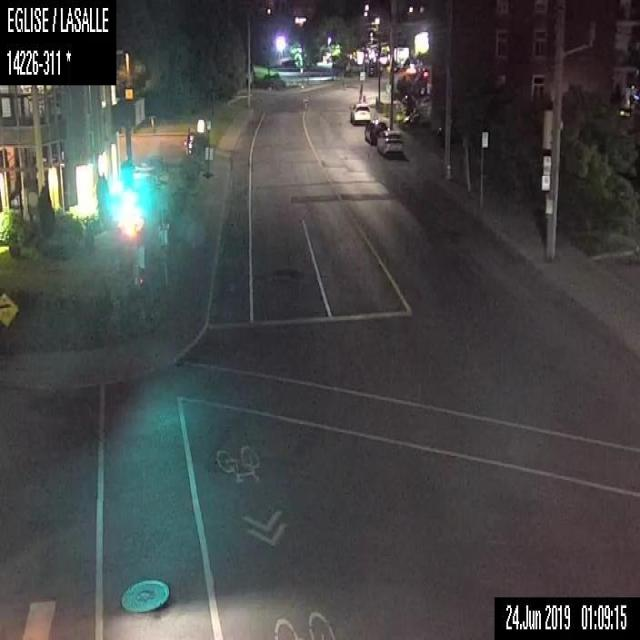vehicle: (376, 128, 404, 161), (363, 117, 386, 144), (348, 100, 370, 123)
